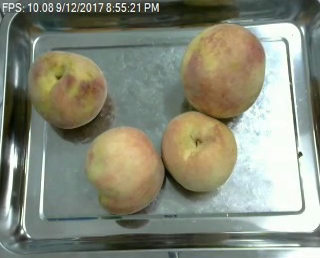Peach: (182, 22, 265, 117), (85, 124, 164, 215), (26, 50, 108, 130), (162, 110, 238, 193)
